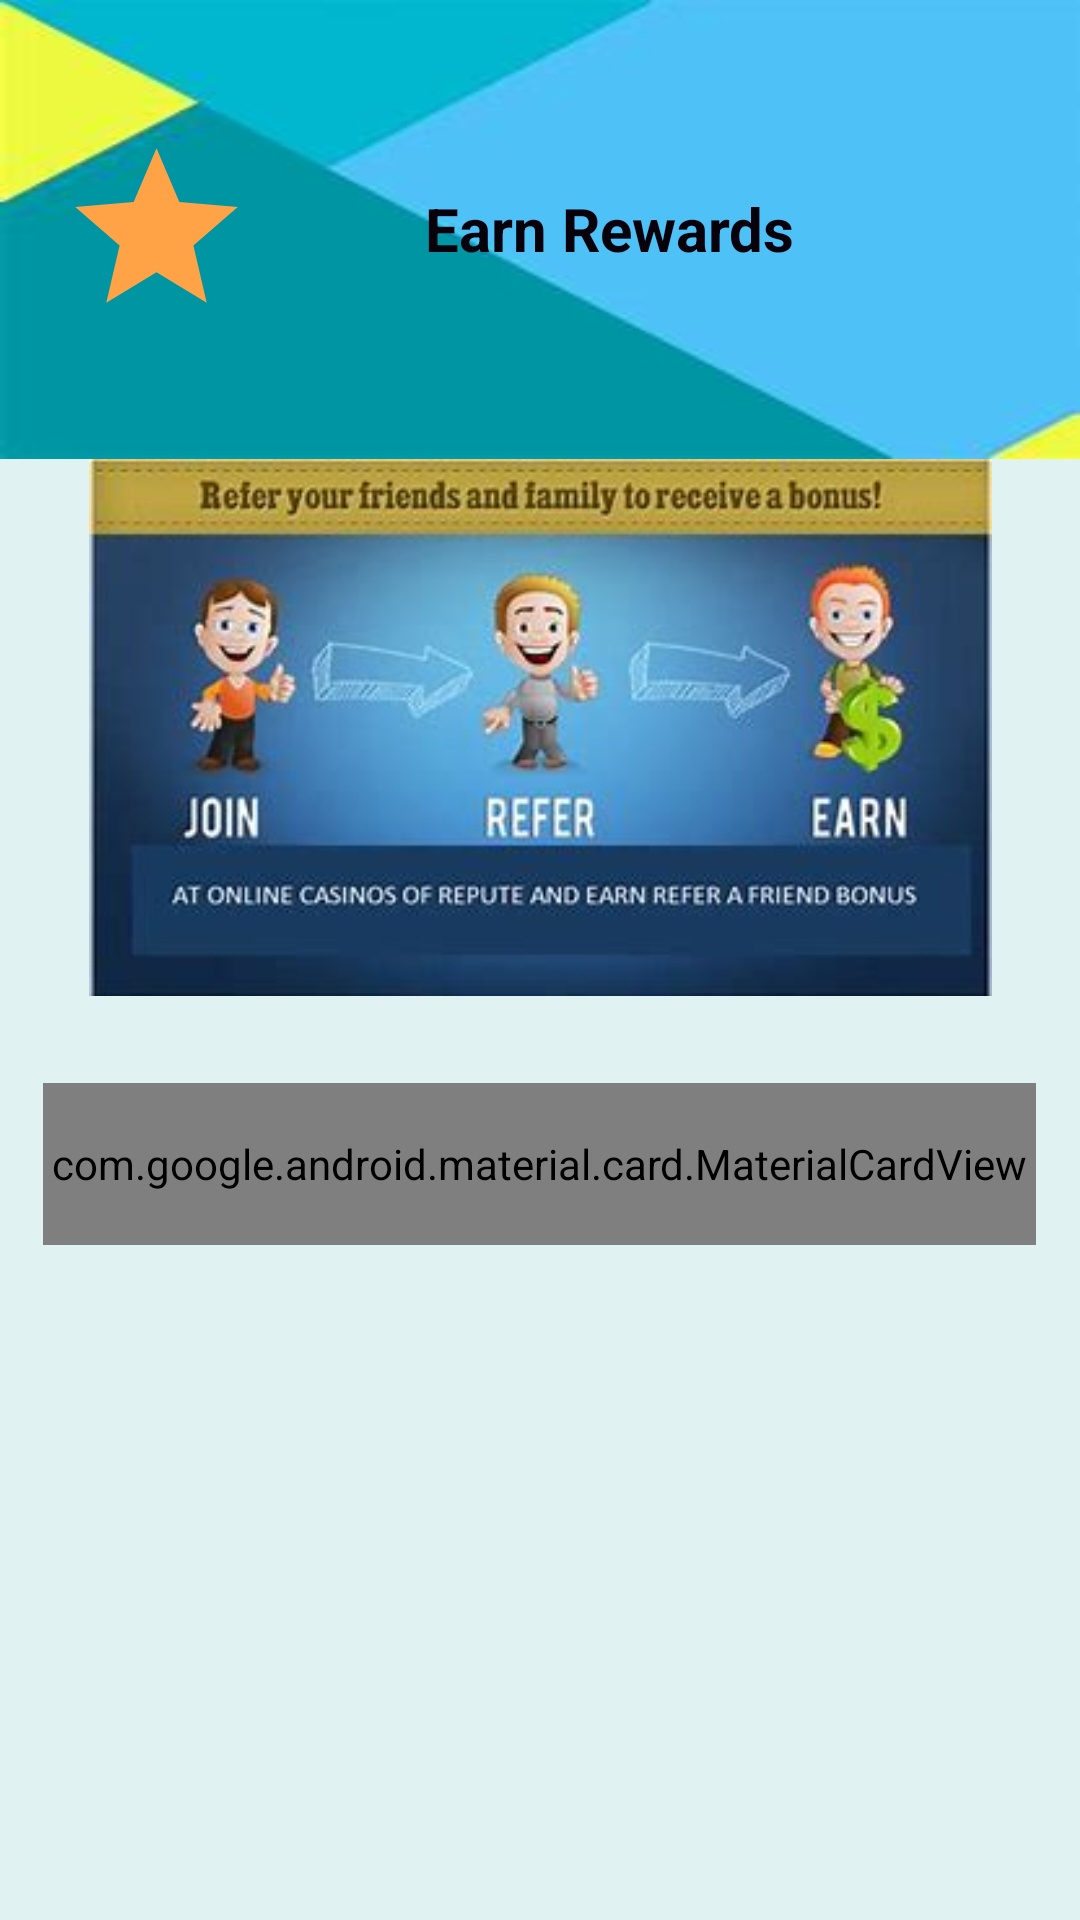

Where icons sit on this 1080×1920 app screen, as (x1, y1, x2, y2):
star: (51, 138, 238, 303)
